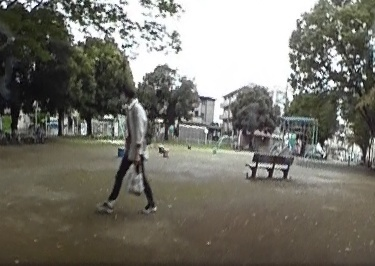person: (108, 84, 150, 204)
